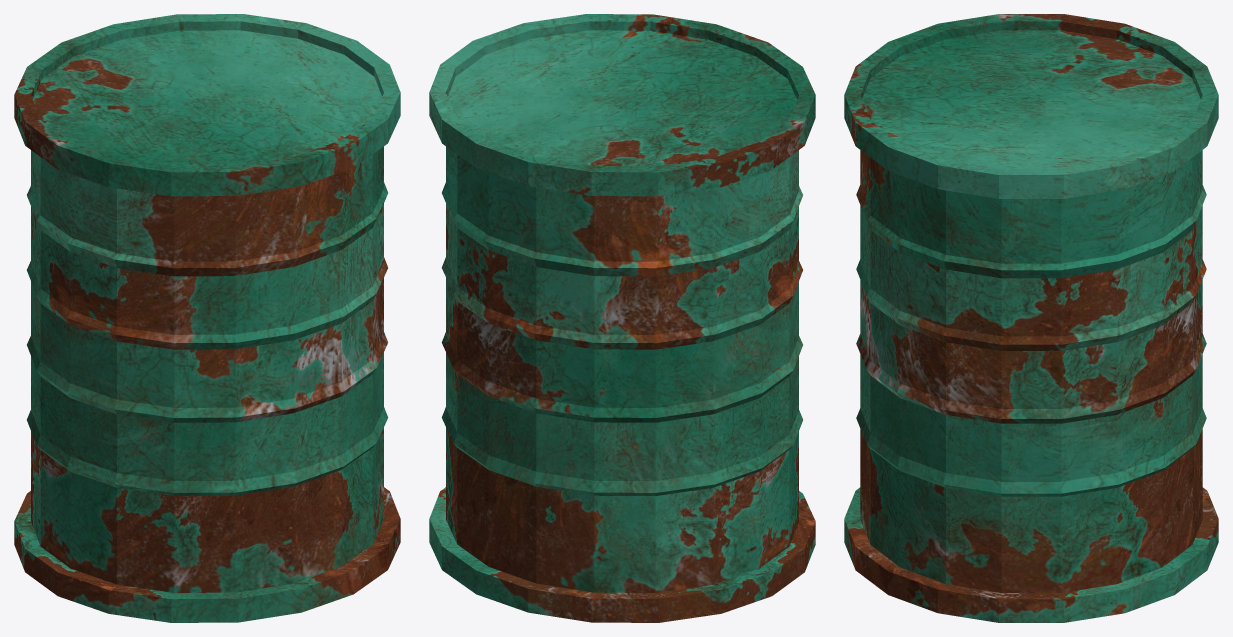
Rendered from 1kLowPolyGreen.glb.
3 views of the same model, side by side, from view 1: azimuth 30°, elevation 25°; view 2: azimuth 150°, elevation 25°; view 3: azimuth 270°, elevation 25° (orthographic).
Parts seen in each view (by area): view 1: LowPolyGreen; view 2: LowPolyGreen; view 3: LowPolyGreen.
Part boxes in pixels (x1=…): LowPolyGreen: x1=14, y1=14, x2=400, y2=622; LowPolyGreen: x1=429, y1=14, x2=815, y2=622; LowPolyGreen: x1=844, y1=14, x2=1218, y2=622.
Size of the model in its own units: 0.715 by 0.9268 by 0.7022.
1 material, 1 textured.
